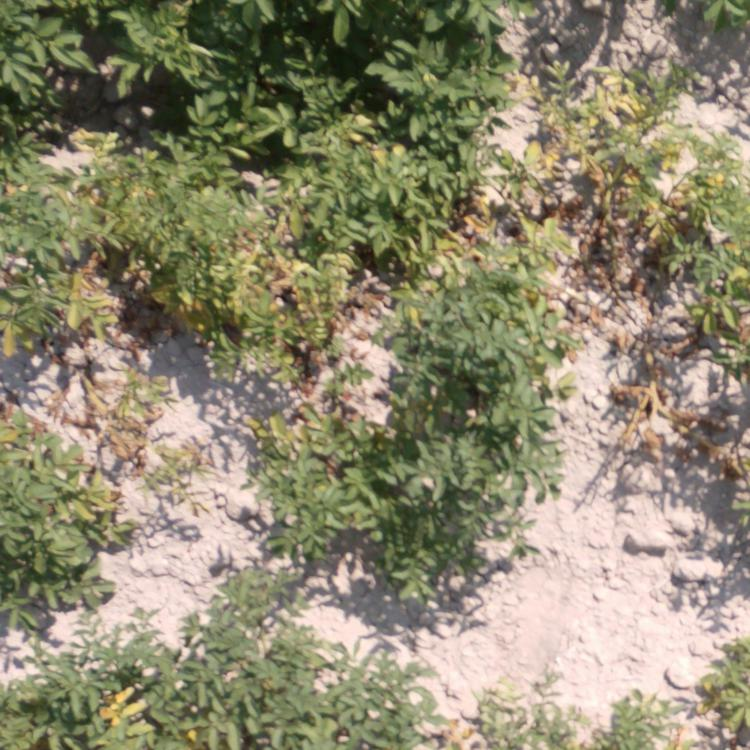healthy: (1, 1, 313, 148), (183, 577, 336, 750), (402, 330, 488, 608), (324, 1, 474, 131), (258, 467, 397, 565), (495, 338, 566, 488), (343, 645, 410, 750), (683, 653, 750, 736), (669, 1, 750, 52), (480, 1, 540, 47)
stressed: (1, 370, 171, 622), (130, 155, 315, 342), (478, 67, 647, 266), (645, 113, 750, 354), (332, 141, 469, 322), (1, 159, 121, 350), (207, 346, 381, 461), (416, 681, 684, 750), (1, 645, 163, 745), (616, 367, 750, 469), (483, 272, 628, 341)
